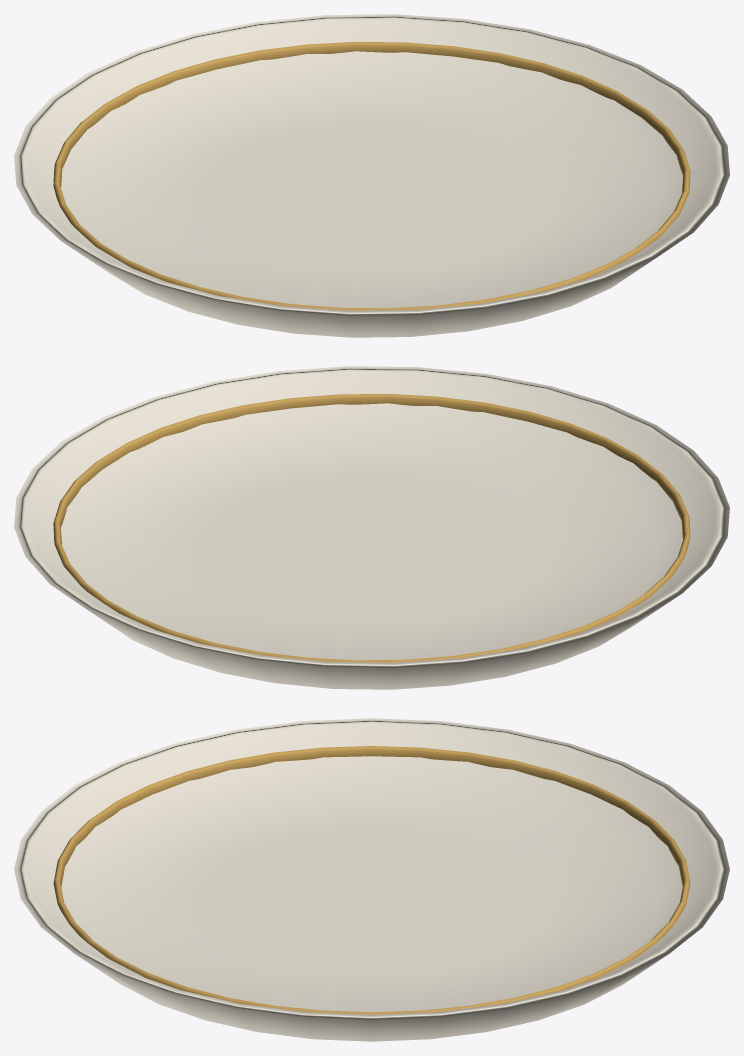
Rendered from wp-assiette-a-dessert.glb.
3 views of the same model, one above another, from view 1: azimuth 30°, elevation 25°; view 2: azimuth 150°, elevation 25°; view 3: azimuth 270°, elevation 25° (orthographic).
Parts seen in each view (by area): view 1: wp-assiette-a-dessert; view 2: wp-assiette-a-dessert; view 3: wp-assiette-a-dessert.
Part boxes in pixels (x1,y1,x2,y2): wp-assiette-a-dessert: [14, 14, 729, 337]; wp-assiette-a-dessert: [14, 366, 729, 689]; wp-assiette-a-dessert: [14, 718, 729, 1041].
Size of the model in its own units: 0.19 by 0.02 by 0.19.
